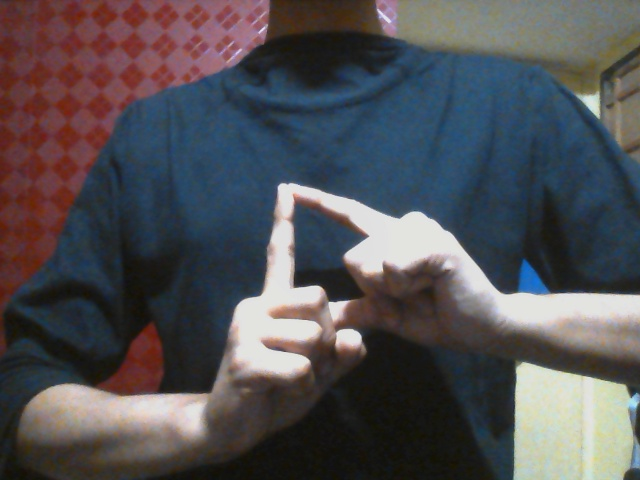D: (210, 182, 499, 465)
